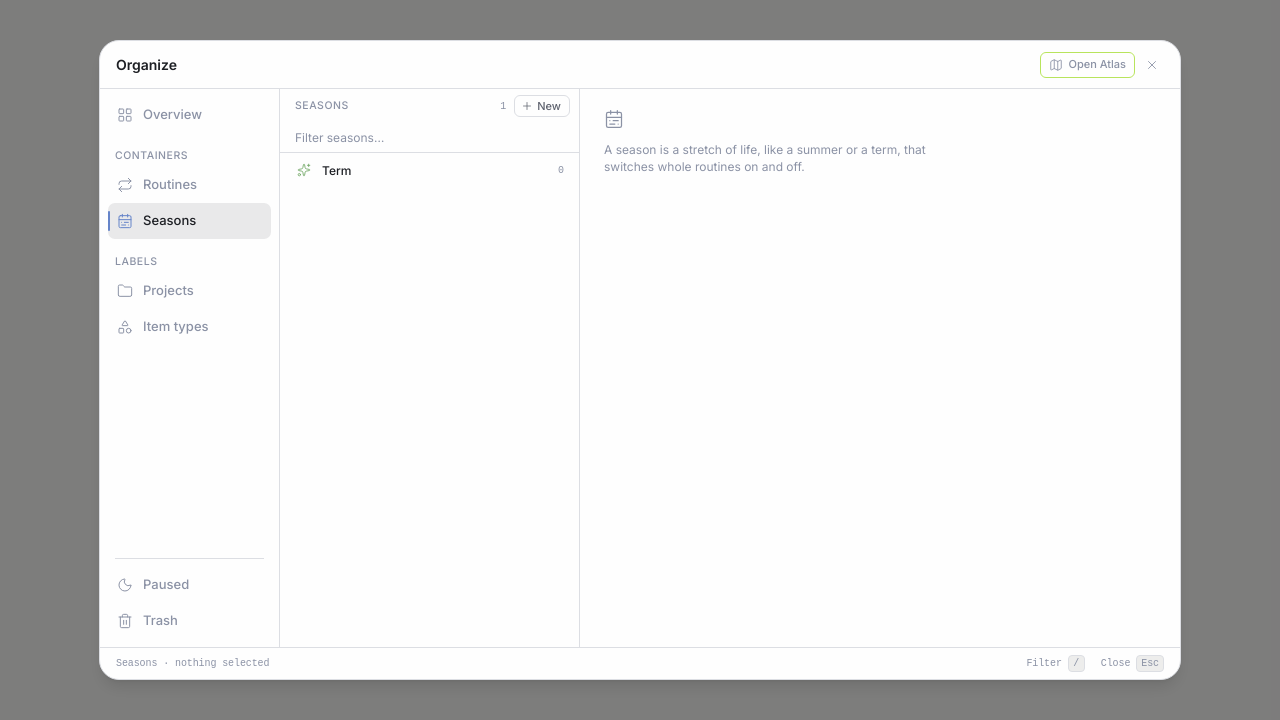
Test: the seasons section › states what auto with {} actually means
Click the button with test id "season-row". click: (304, 170)
box: top-left (288, 153), bottom-right (571, 187)
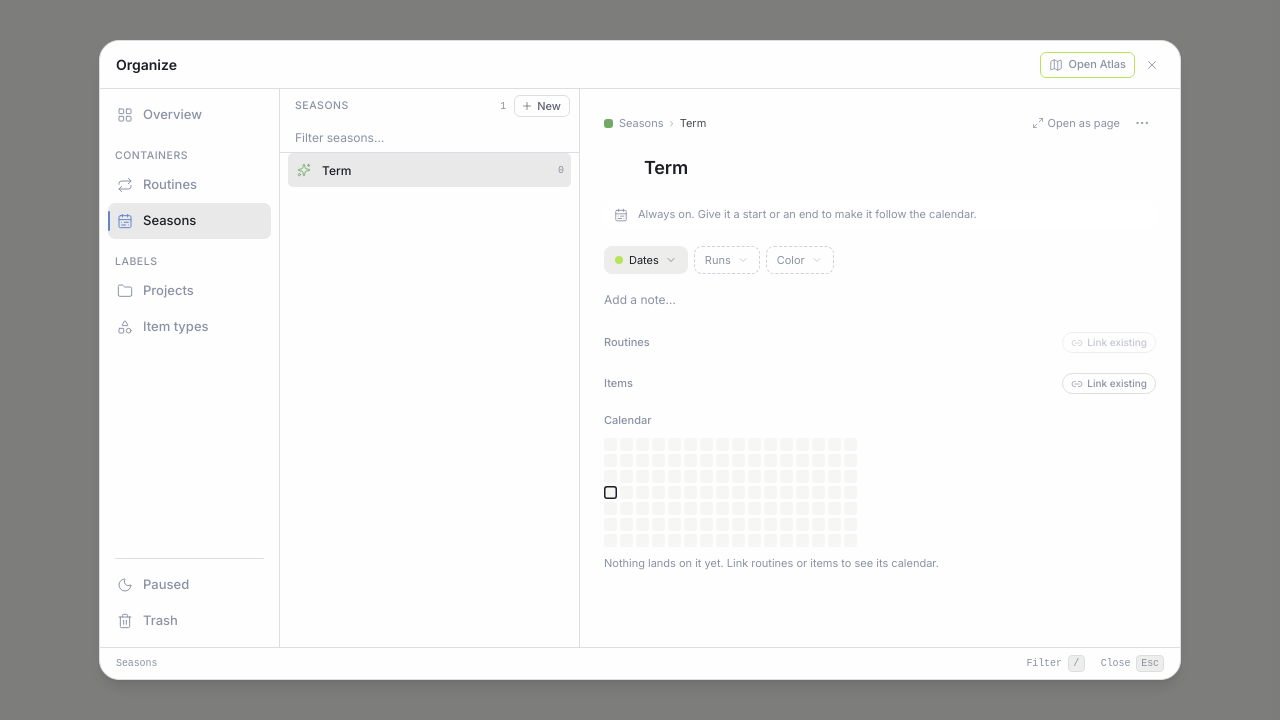
Expected: the element with test id "season-state-note" shows "Always on. Give it a start or an end", top-left (638, 207), bottom-right (977, 221)
